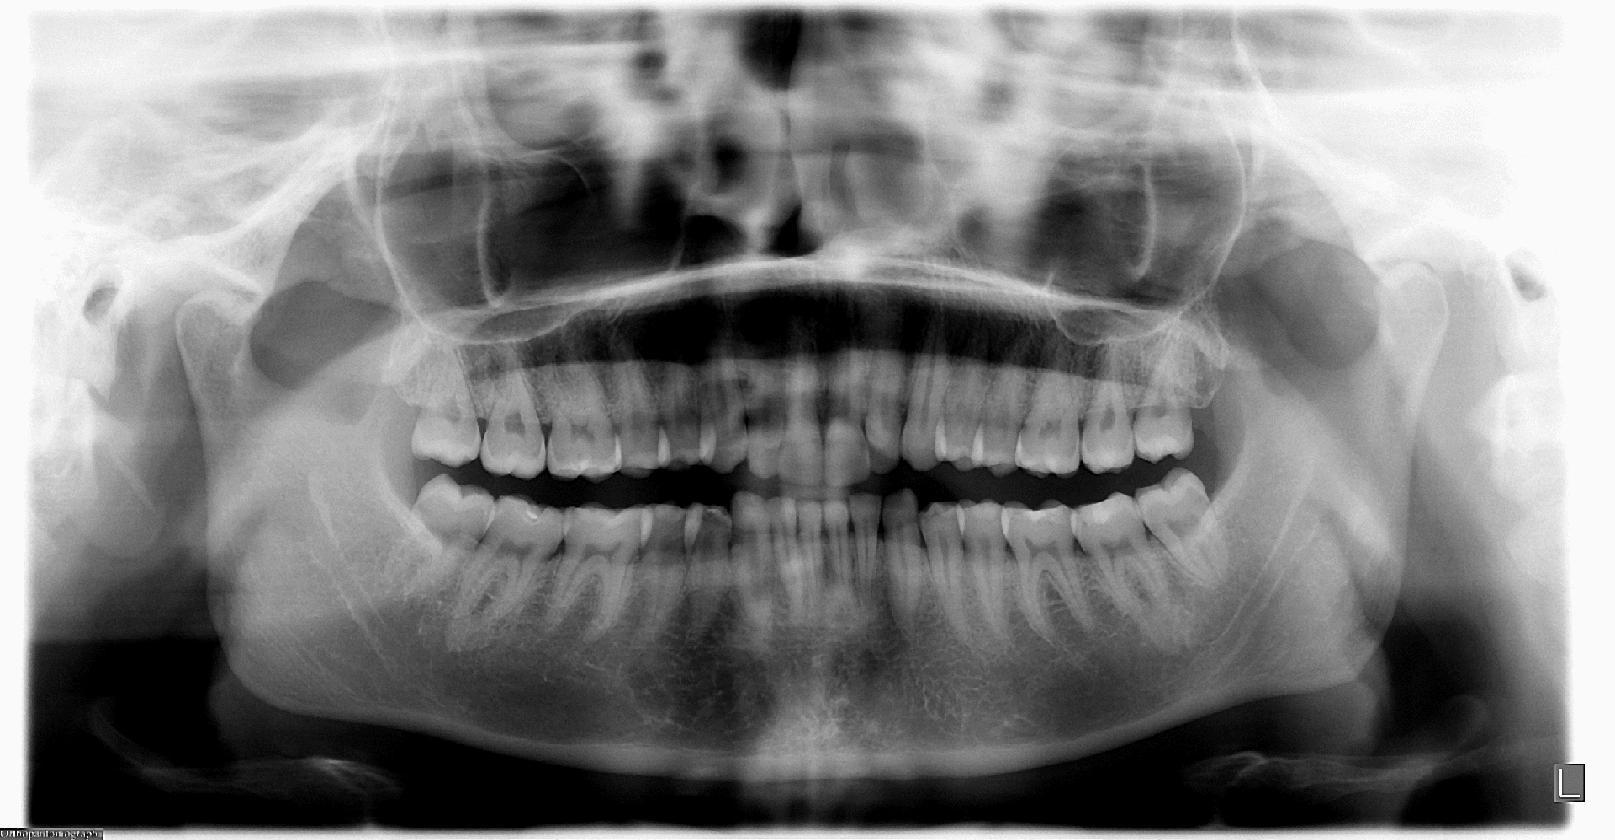Erupted: (379, 467, 496, 622), (1136, 465, 1244, 603)
